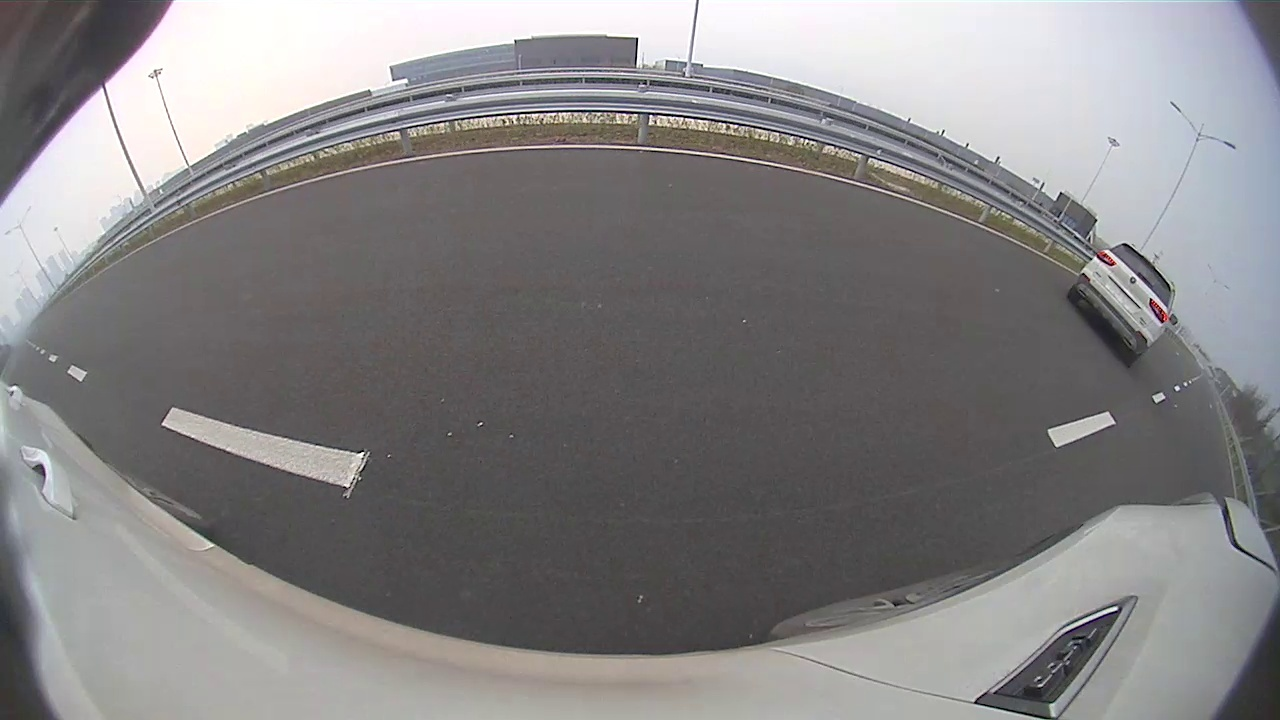car: (1, 239, 247, 503)
front: (181, 285, 237, 363)
